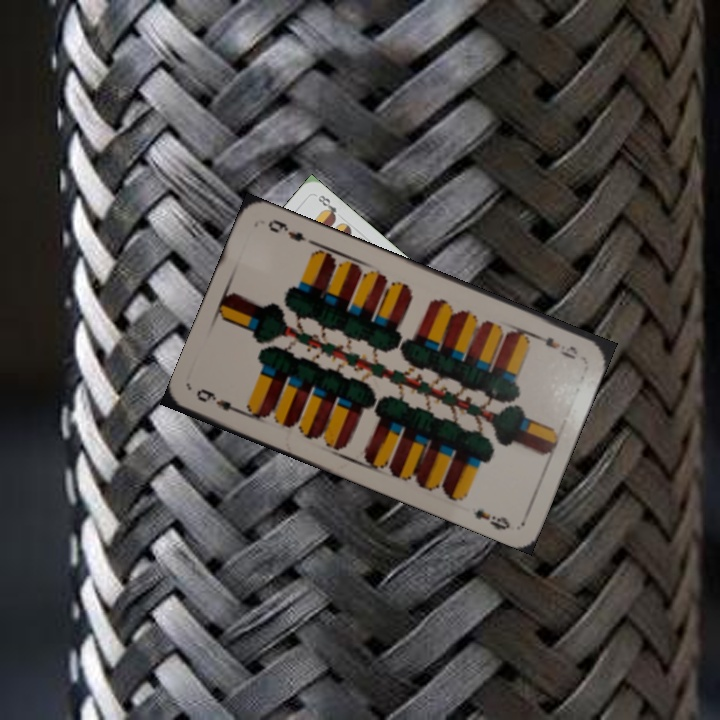E9: (192, 384, 248, 418), (528, 329, 581, 362)
